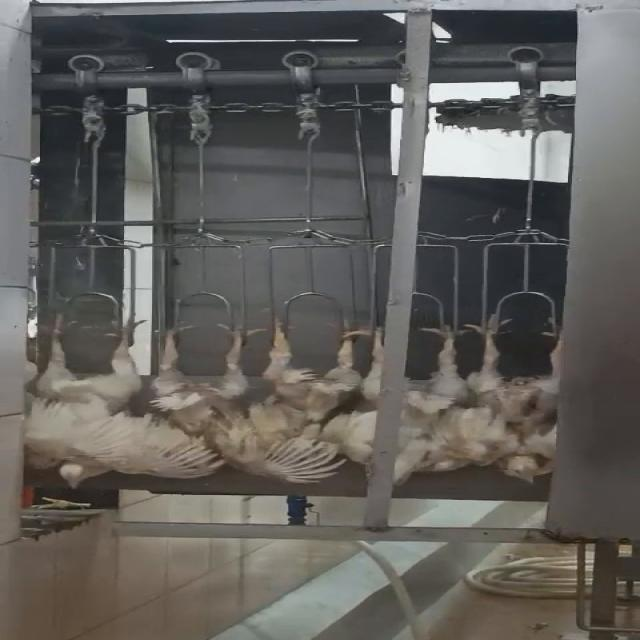chicken: (4, 316, 154, 491), (233, 319, 360, 486), (450, 312, 565, 490), (133, 316, 248, 479), (345, 319, 453, 481)
